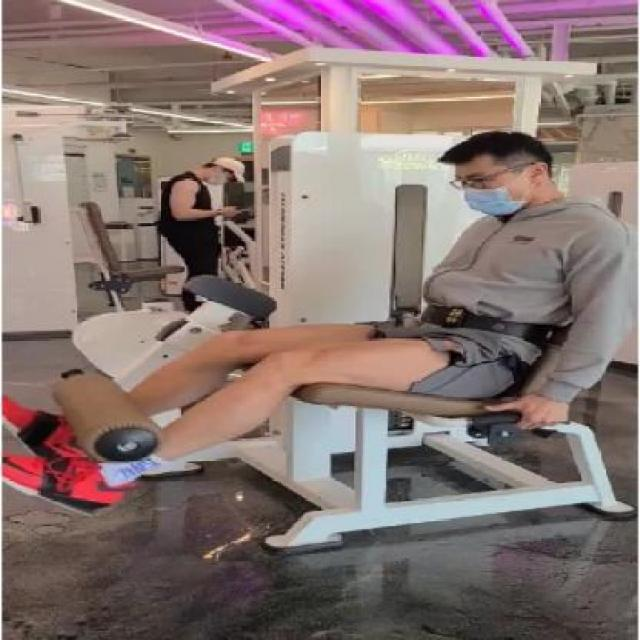leg extension: (0, 95, 640, 563)
